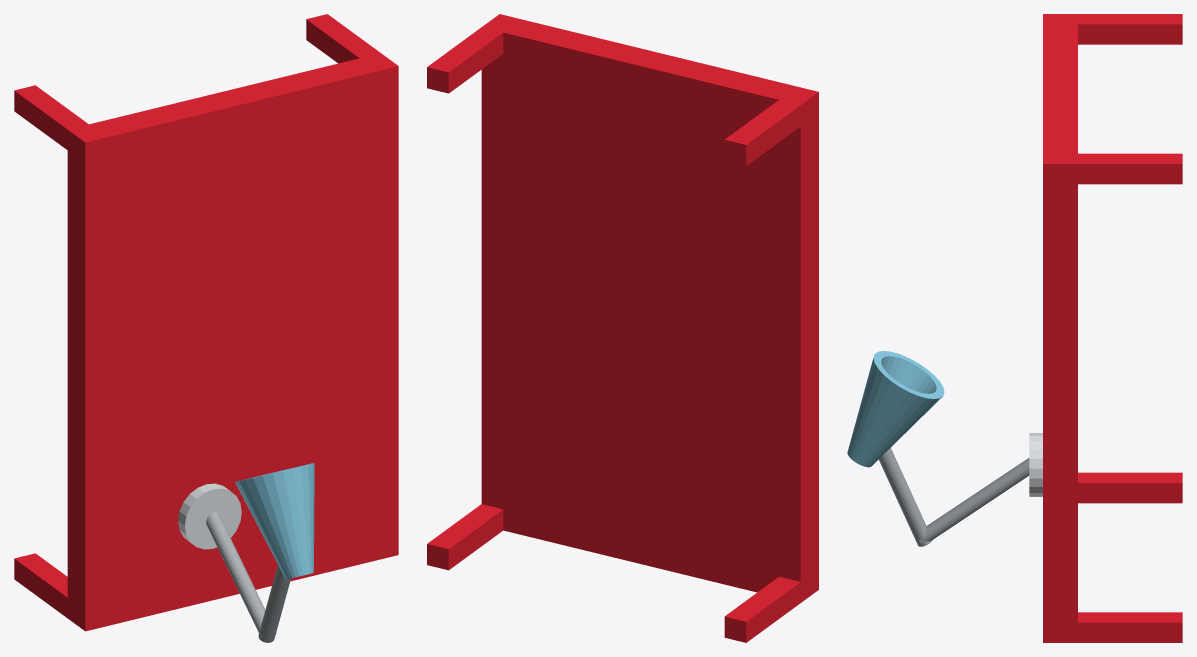
File: tinker.obj
3 views of the same model, side by side, from view 1: azimuth 30°, elevation 25°; view 2: azimuth 150°, elevation 25°; view 3: azimuth 270°, elevation 25° (orthographic). The views are drawn at different scales.
Visible parts, largest first — view 1: group_0_15277357, group_0_8768998, group_0_10988977, group_0_14541540; view 2: group_0_15277357; view 3: group_0_15277357, group_0_8768998, group_0_10988977, group_0_14541540.
Boxes of the visible parts, x1,y1,x2,y2 form: group_0_15277357: (14, 14, 398, 631); group_0_8768998: (235, 463, 314, 579); group_0_10988977: (206, 512, 290, 642); group_0_14541540: (178, 483, 241, 549); group_0_15277357: (427, 14, 818, 642); group_0_15277357: (1043, 14, 1182, 642); group_0_8768998: (847, 351, 944, 467); group_0_10988977: (878, 448, 1029, 546); group_0_14541540: (1029, 433, 1042, 496).
Bounding box in the file's own units: 44 × 65.58 × 41.6.
